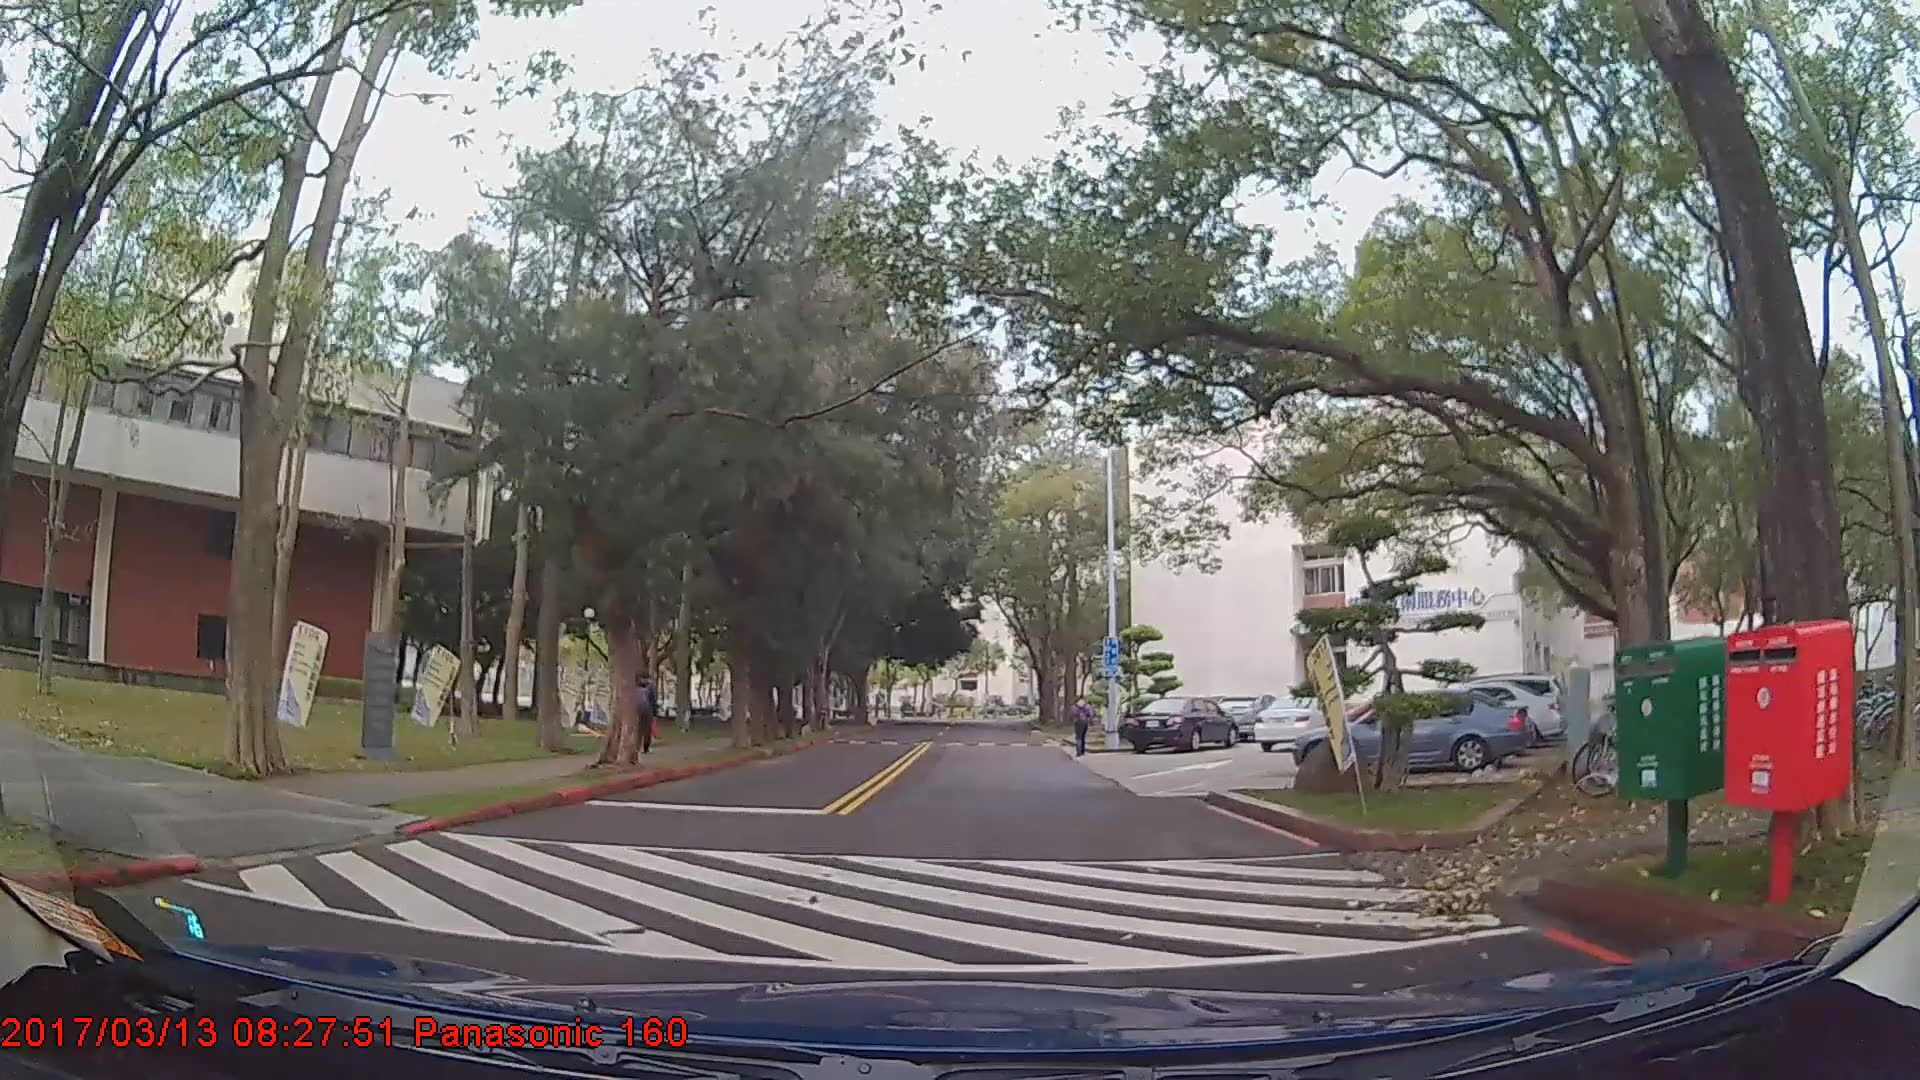pedestrian: (628, 672, 660, 756), (1068, 693, 1097, 759)
vehicle: (1295, 687, 1532, 778), (1403, 680, 1563, 748), (1121, 697, 1238, 754), (1253, 692, 1347, 753)
